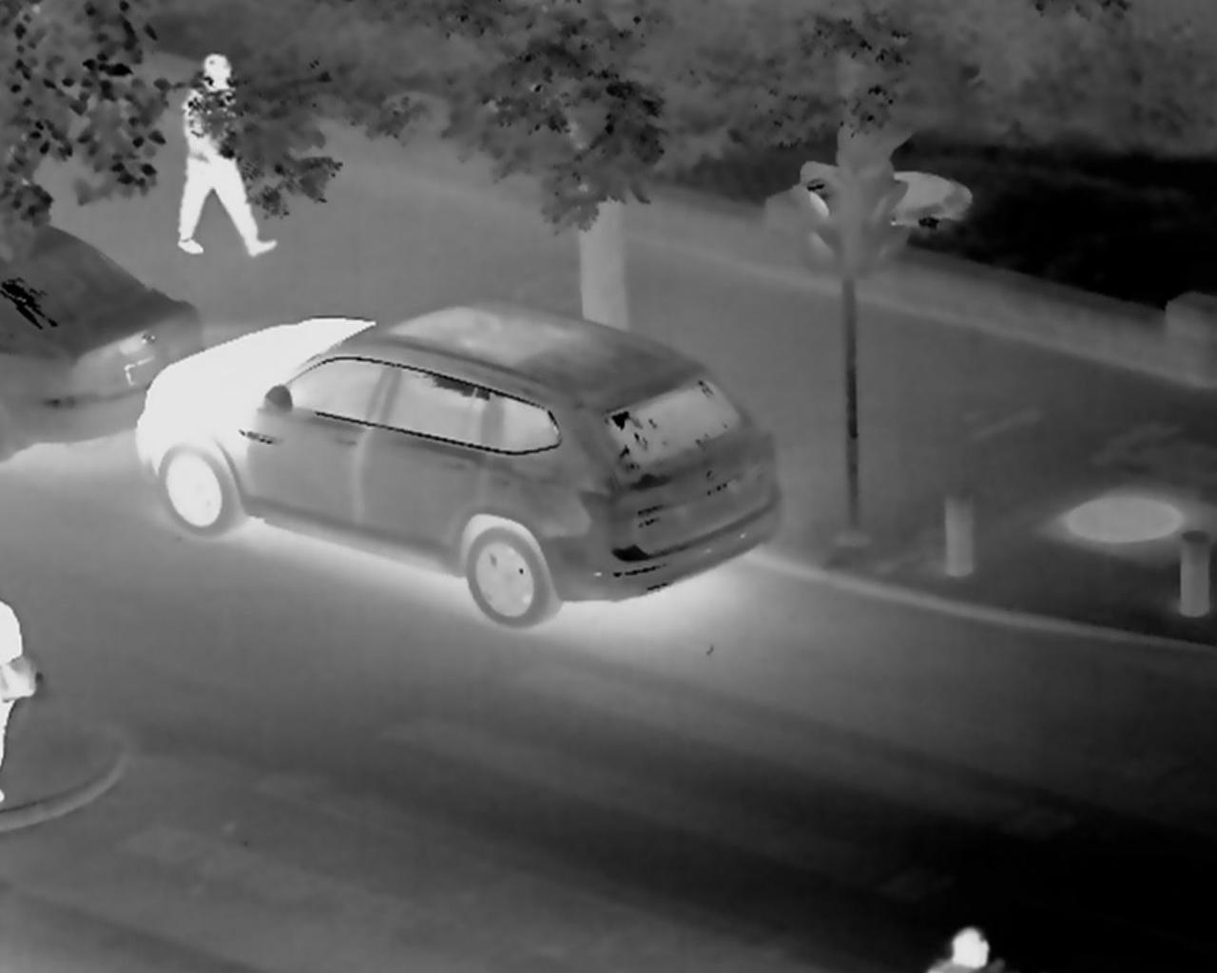person: (167, 62, 315, 276)
